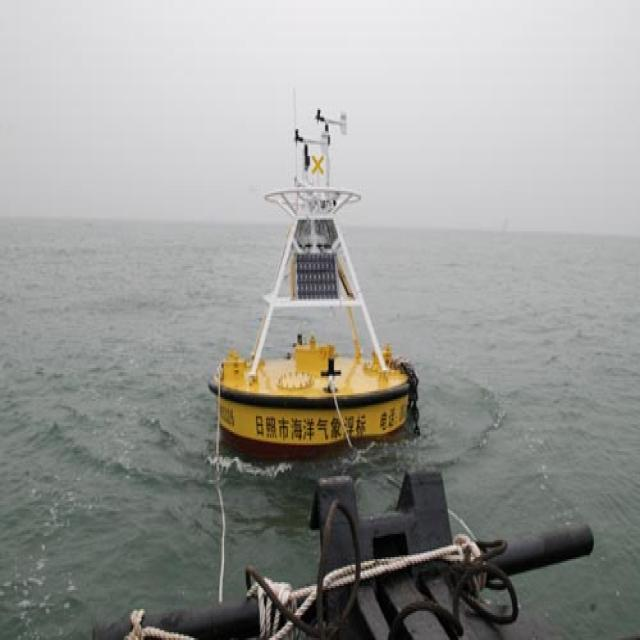buoy: (216, 95, 418, 447)
